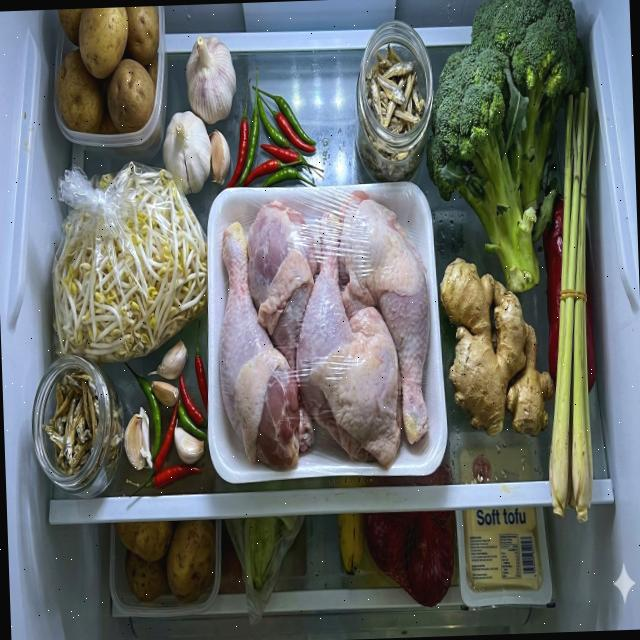anchovies: (359, 38, 432, 178), (40, 370, 126, 478)
bean_sprouts: (48, 165, 212, 367)
brocolli: (420, 0, 592, 296)
chicken: (213, 188, 435, 476)
chili: (120, 318, 211, 500), (228, 81, 320, 188)
garlic: (157, 34, 240, 196), (146, 339, 190, 408), (122, 406, 152, 472), (173, 418, 204, 464)
ginger: (438, 252, 556, 438)
lemongrass: (535, 85, 611, 527)
potato: (52, 6, 162, 136), (164, 518, 218, 606), (114, 520, 174, 564)
tofu: (458, 445, 544, 593)
